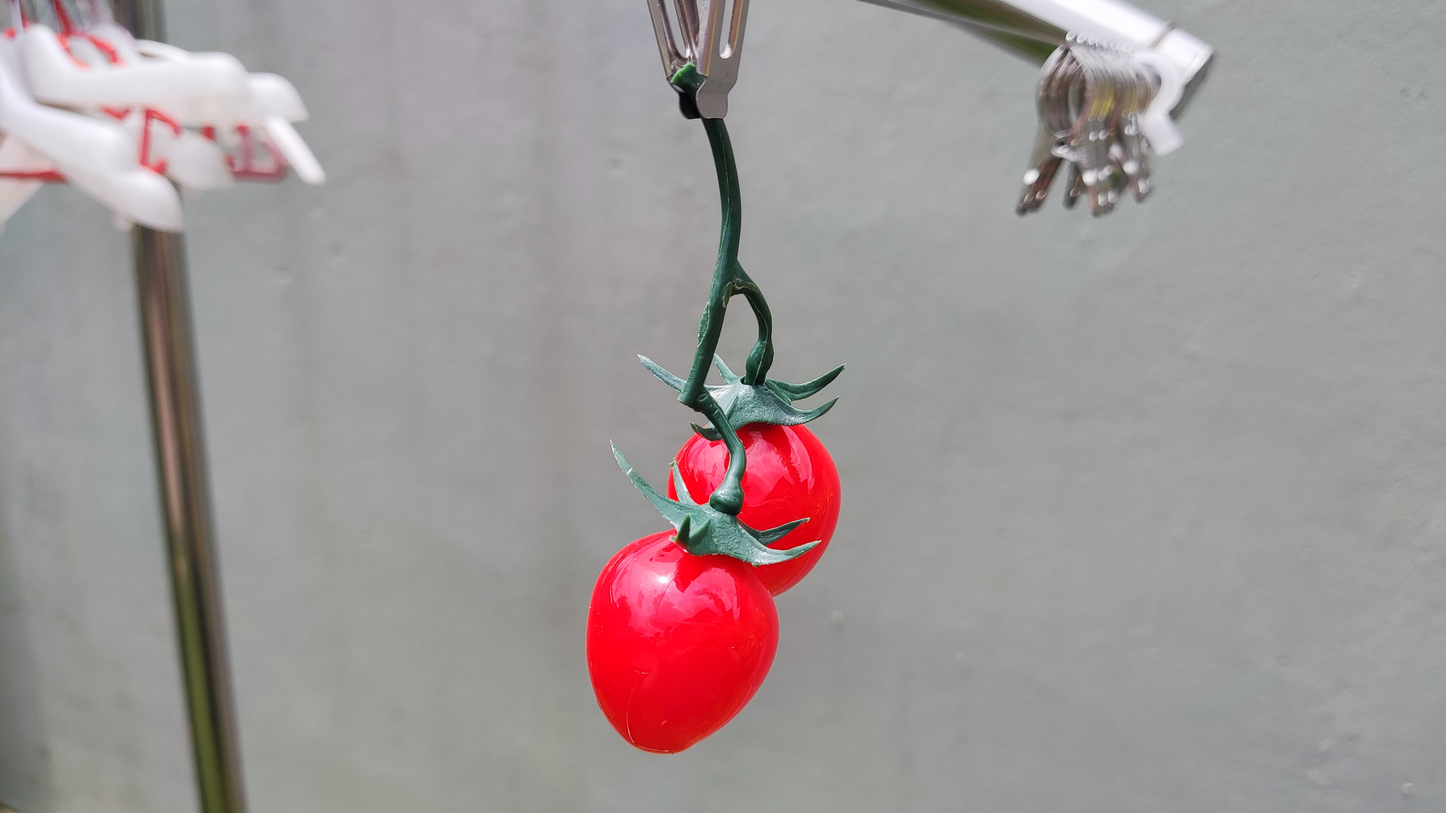peduncle: (702, 120, 742, 258)
strawberry: (586, 532, 779, 754), (737, 422, 841, 596), (676, 433, 728, 504)
